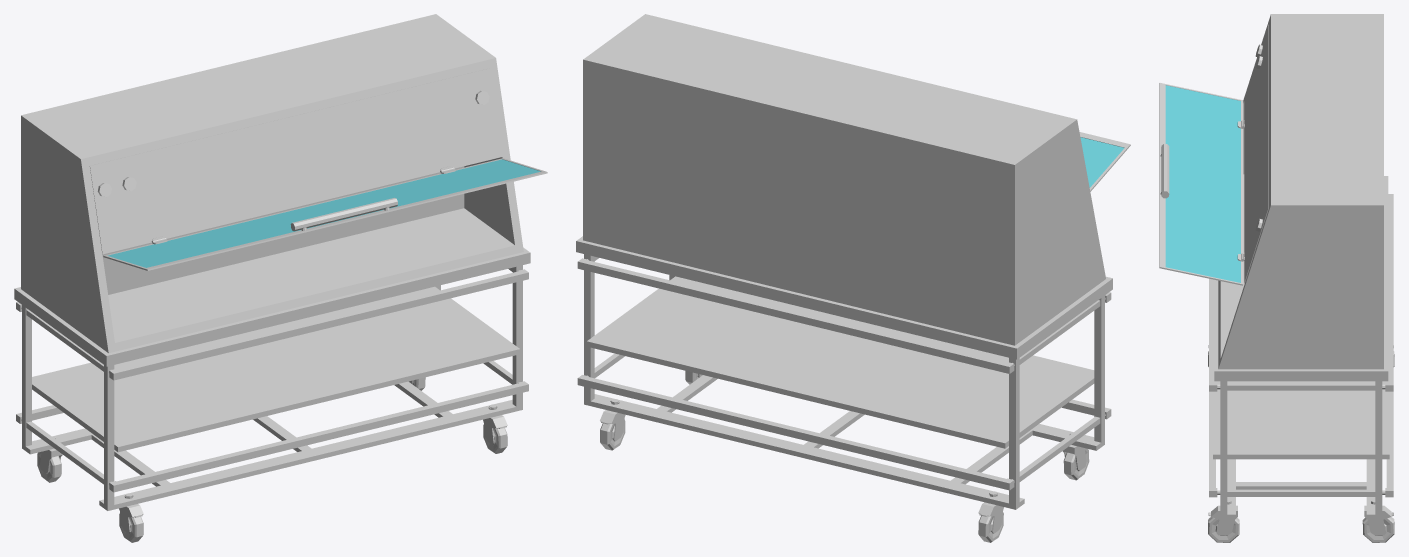
The model's file is SM_Research_Table_01.glb.
3 renders of one model, left to right at view 1: azimuth 30°, elevation 25°; view 2: azimuth 150°, elevation 25°; view 3: azimuth 270°, elevation 25°, orthographic. The views are drawn at different scales.
Parts seen in each view (by area): view 1: SM_Research_Table_01, SM_Windows; view 2: SM_Research_Table_01, SM_Windows; view 3: SM_Research_Table_01, SM_Windows.
Part boxes in pixels (x1,y1,x2,y2): SM_Research_Table_01: (14, 14, 530, 542); SM_Windows: (103, 158, 547, 270); SM_Research_Table_01: (576, 14, 1112, 542); SM_Windows: (1079, 132, 1130, 191); SM_Research_Table_01: (1208, 14, 1394, 542); SM_Windows: (1159, 83, 1243, 285).
Bounding box in the file's own units: 2.04 × 1.7 × 1.04.
